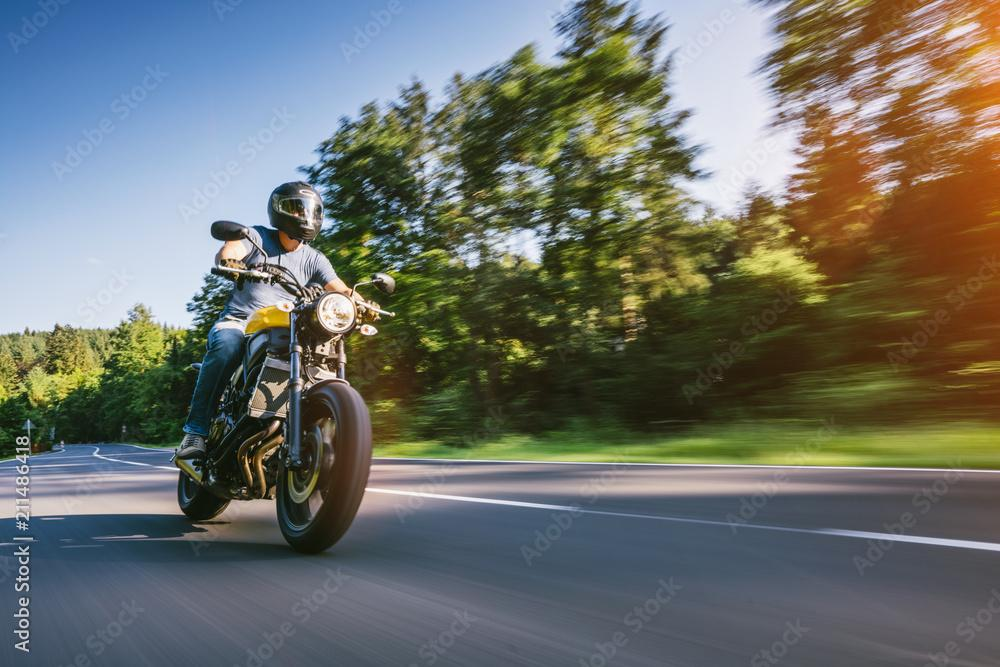helmet: (267, 180, 324, 245)
